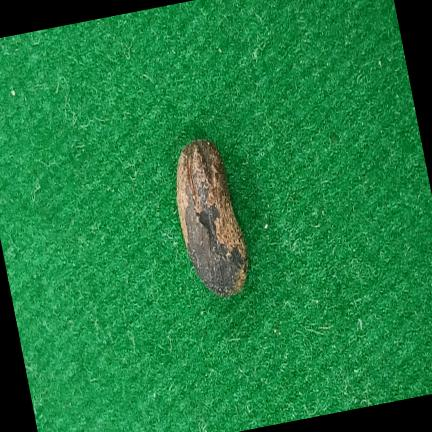partial-black: (177, 139, 248, 297)
